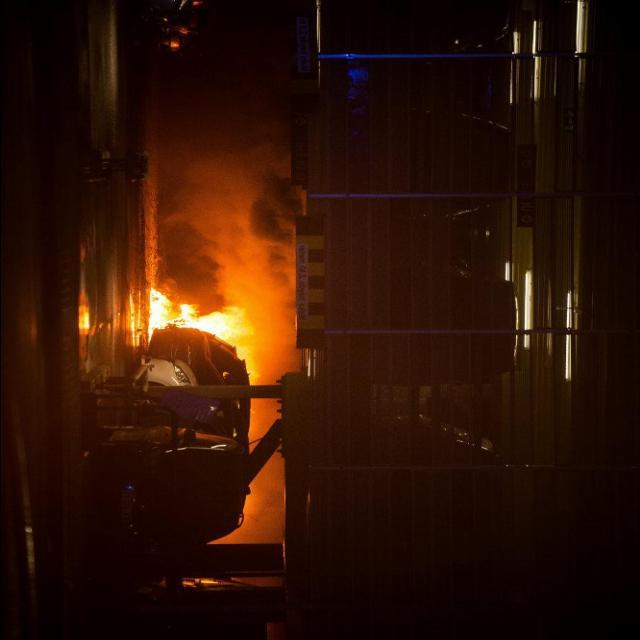Fire: (164, 40, 182, 49)
